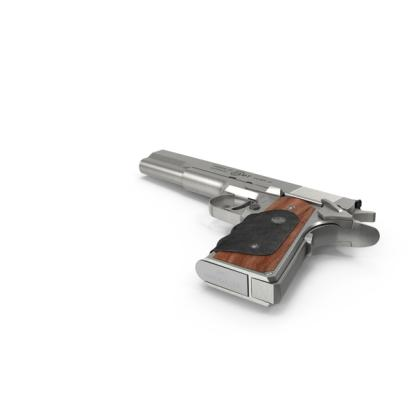handgun: (139, 146, 380, 308)
